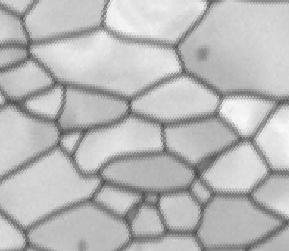good_void: (194, 41, 214, 68), (72, 235, 90, 251)
